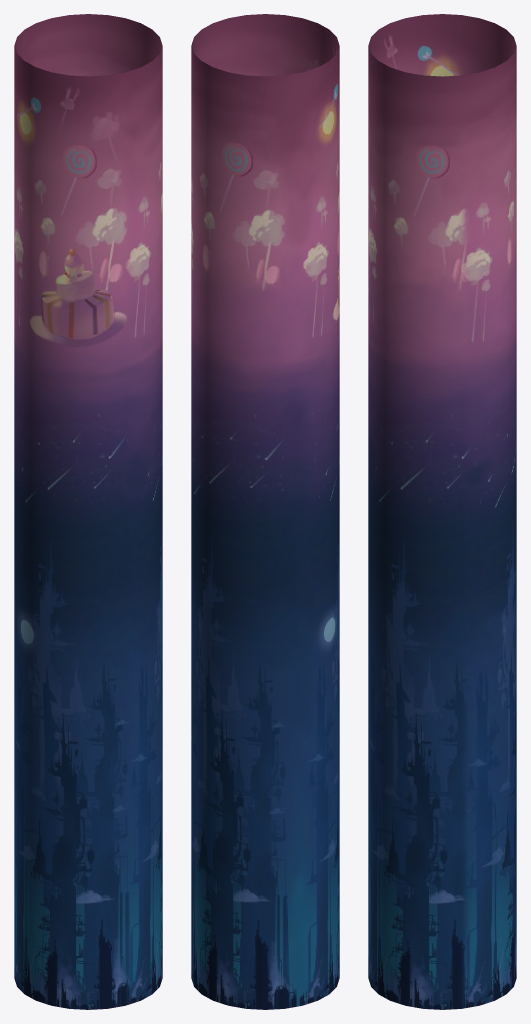
File: Back_Cylinder.FBX
The picture shows the model from 3 angles, left to right: view 1: azimuth 30°, elevation 25°; view 2: azimuth 150°, elevation 25°; view 3: azimuth 270°, elevation 25°; orthographic projection.
Visible parts, largest first — view 1: Cylinder001; view 2: Cylinder001; view 3: Cylinder001.
Part boxes in pixels (x1,y1,x2,y2): Cylinder001: [14, 14, 162, 1009]; Cylinder001: [191, 14, 339, 1009]; Cylinder001: [368, 14, 516, 1009].
Size of the model in its own units: 200 by 1392 by 200.
